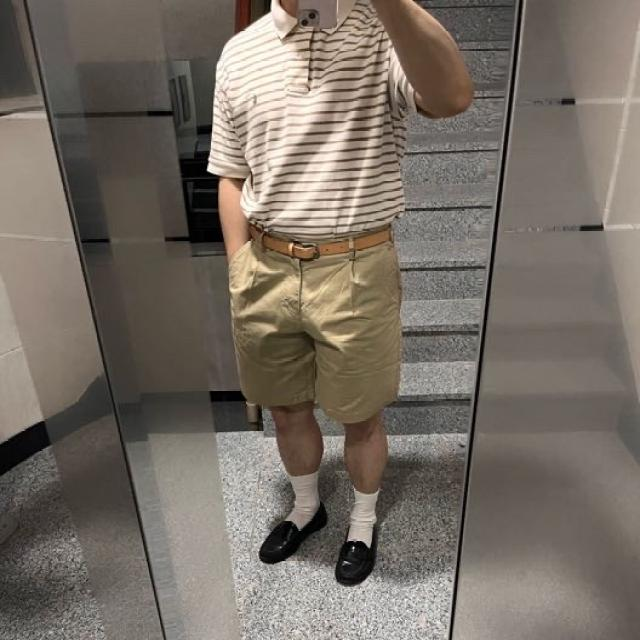shortpants: (231, 218, 401, 425)
shortsleeve: (202, 0, 422, 238)
